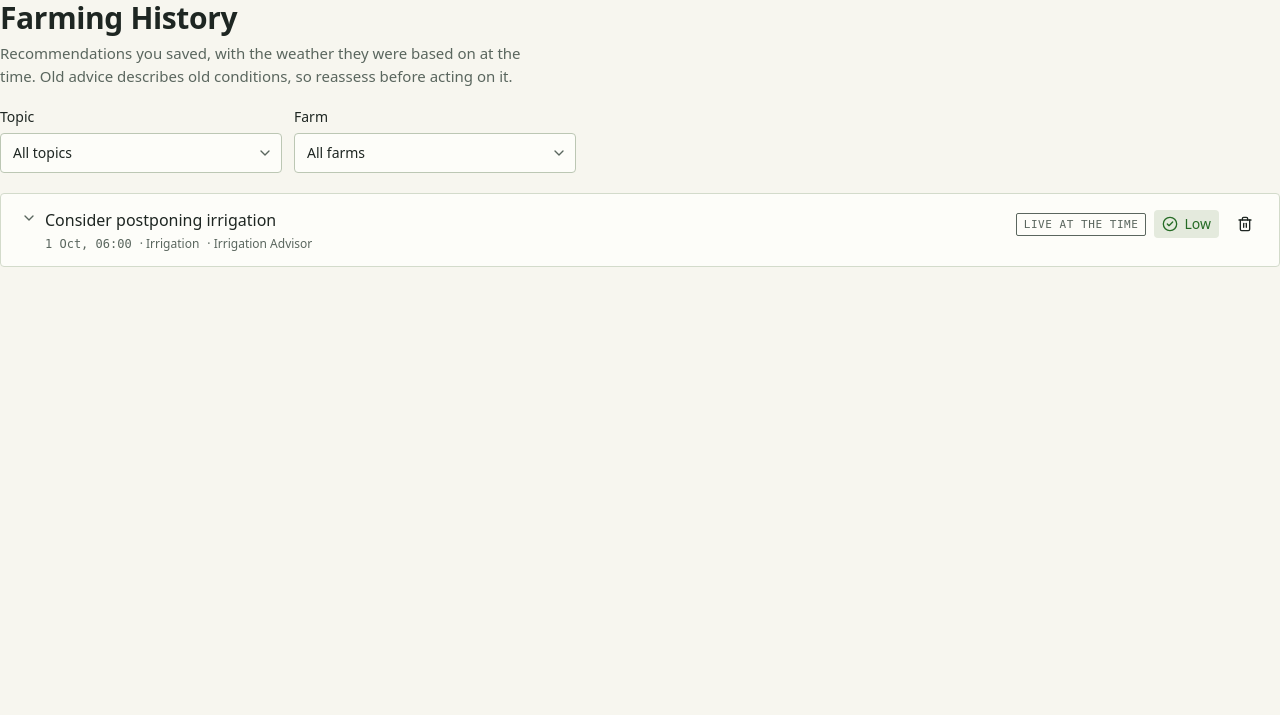
Scenario: HistoryPage › never calls stored weather live, in the row or once opened
What coordinates should you click on to do the following:
click the button that starts with "Consider postponing irrigation"
I would click on:
 (161, 220)
Its box is 17,198 -> 1008,262.
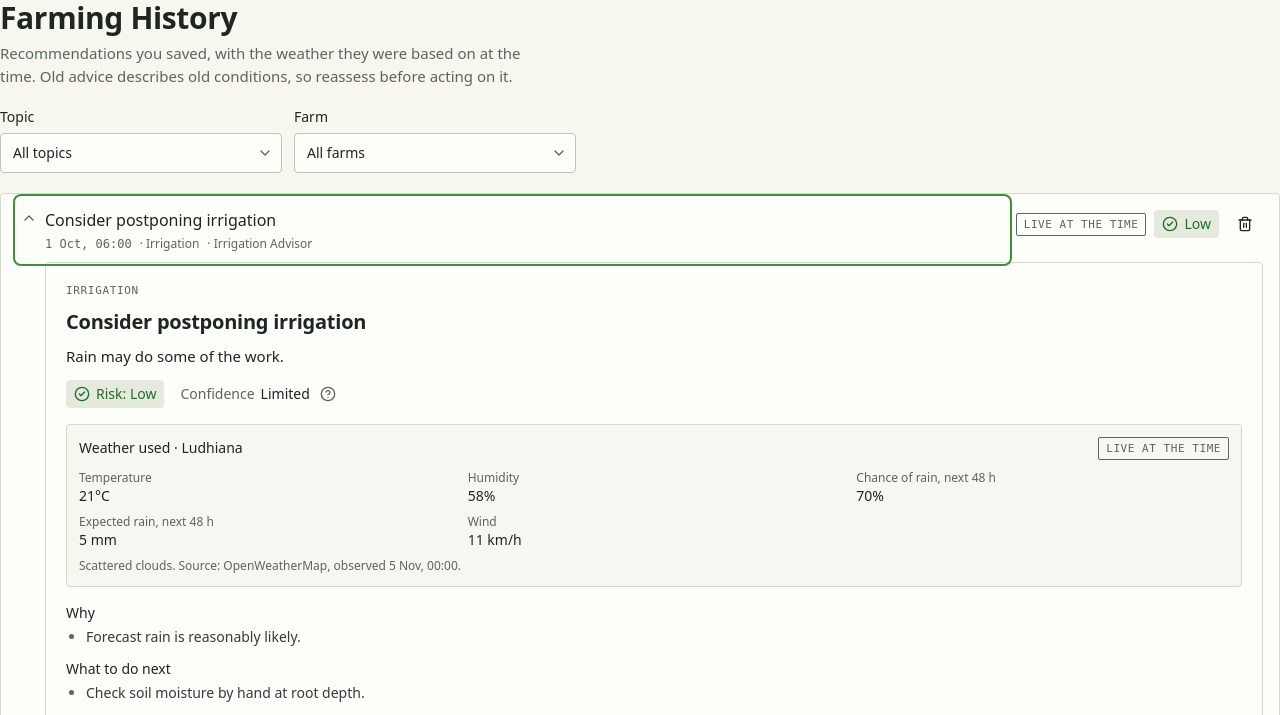
Expected: the text "Live at the time" in the row of "· Ludhiana" is shown, 1106,442 -> 1221,455
